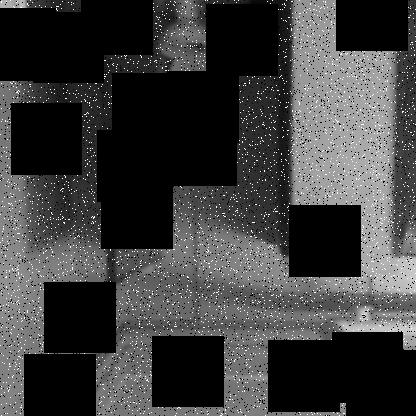Porte: (94, 0, 293, 288)
